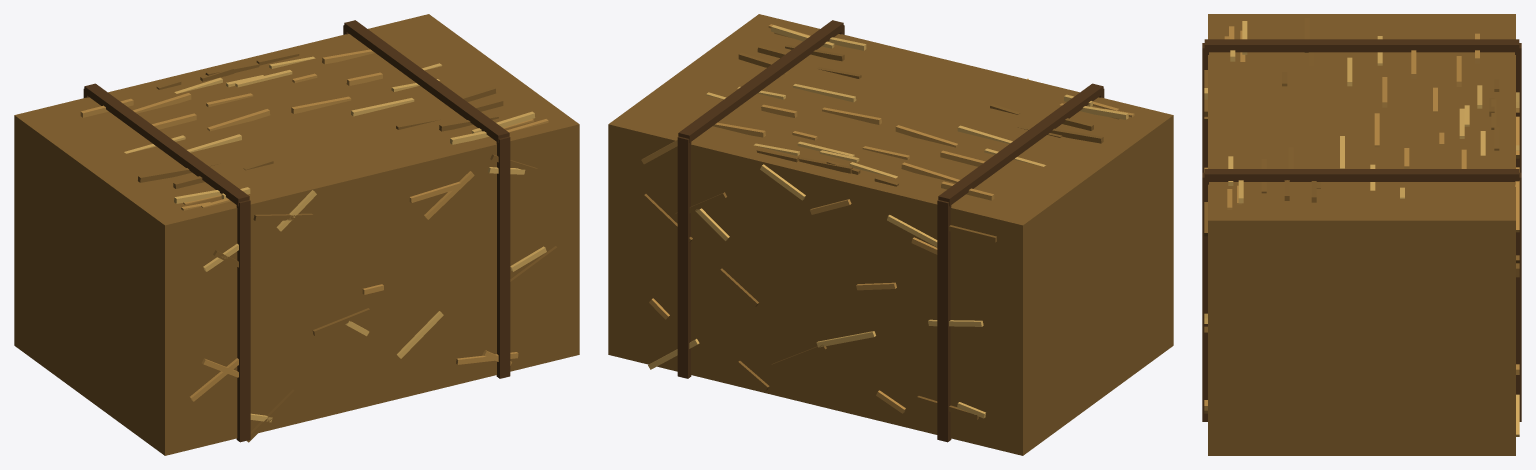
File: mia-hay.glb
3 renders of one model, left to right at view 1: azimuth 30°, elevation 25°; view 2: azimuth 150°, elevation 25°; view 3: azimuth 270°, elevation 25°, orthographic. The views are drawn at different scales.
Parts seen in each view (by area): view 1: Body_hay-dark, Body_wood, Body_hay-mid, Body_hay-light; view 2: Body_hay-dark, Body_wood, Body_hay-light, Body_hay-mid; view 3: Body_hay-dark, Body_wood, Body_hay-mid, Body_hay-light.
Part boxes in pixels (x1,y1,x2,y2): Body_hay-dark: (14,14,579,455); Body_wood: (83,20,510,442); Body_hay-mid: (80,49,548,401); Body_hay-light: (124,56,546,422); Body_hay-dark: (608,14,1173,455); Body_wood: (677,20,1104,442); Body_hay-light: (648,25,1128,418); Body_hay-mid: (641,24,1134,413); Body_hay-dark: (1204,14,1519,455); Body_wood: (1202,39,1521,421); Body_hay-mid: (1204,26,1519,413); Body_hay-light: (1204,21,1519,436).
Bounding box in the file's own units: 1.07 × 0.6062 × 0.699.
